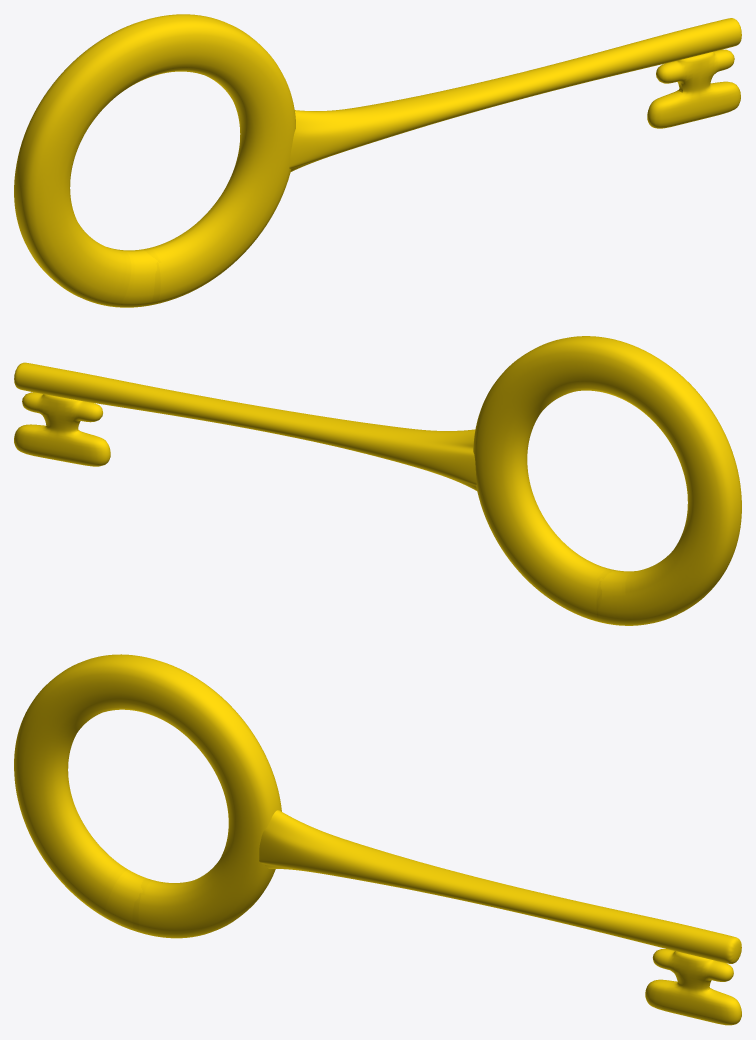
Rendered from keyFinal.fbx.
The picture shows the model from 3 angles, top to bottom: view 1: azimuth 30°, elevation 25°; view 2: azimuth 150°, elevation 25°; view 3: azimuth 330°, elevation 25°; orthographic projection. The views are drawn at different scales.
Visible parts, largest first — view 1: Cylinder; view 2: Cylinder; view 3: Cylinder.
Boxes of the visible parts, x1,y1,x2,y2 form: Cylinder: (14, 14, 741, 307); Cylinder: (14, 336, 741, 625); Cylinder: (14, 654, 741, 1025).
Bounding box in the file's own units: 124 × 45.9 × 9.91.
